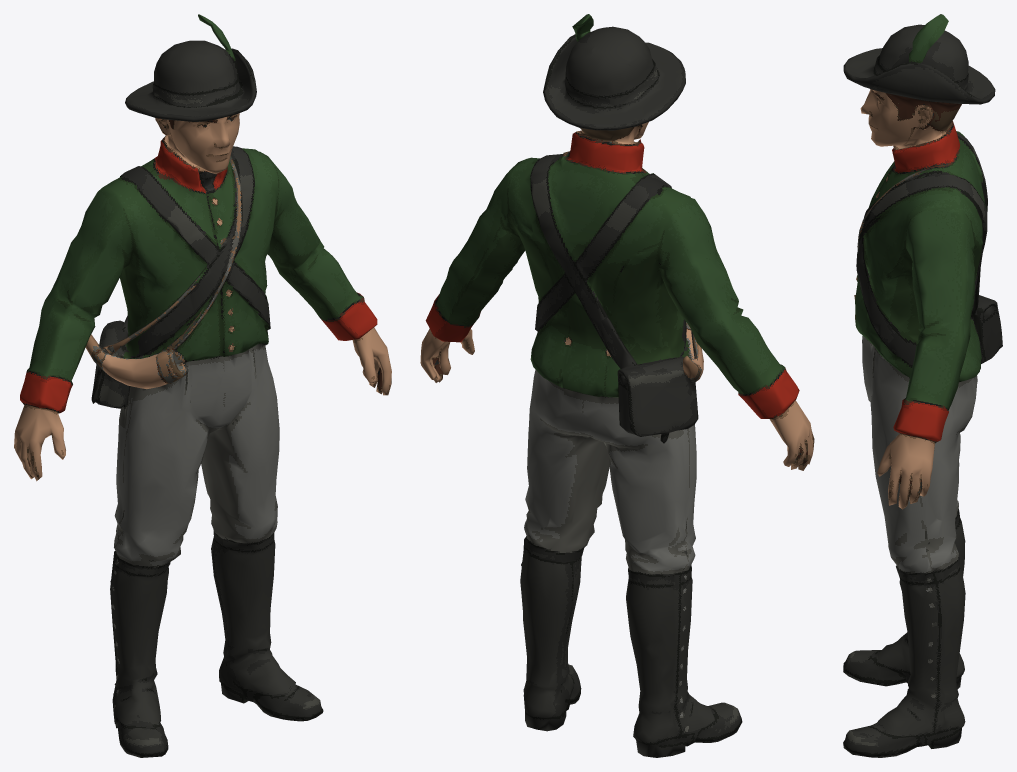
The model's file is tirador.glb.
3 views of the same model, side by side, from view 1: azimuth 30°, elevation 25°; view 2: azimuth 150°, elevation 25°; view 3: azimuth 270°, elevation 25° (orthographic). The views are drawn at different scales.
Visible parts, largest first — view 1: tripo_node_a41fcc69-ff9a-44eb-b478-dd2bba95665b; view 2: tripo_node_a41fcc69-ff9a-44eb-b478-dd2bba95665b; view 3: tripo_node_a41fcc69-ff9a-44eb-b478-dd2bba95665b.
Part boxes in pixels (x1,y1,x2,y2): tripo_node_a41fcc69-ff9a-44eb-b478-dd2bba95665b: [14, 14, 391, 757]; tripo_node_a41fcc69-ff9a-44eb-b478-dd2bba95665b: [420, 14, 814, 757]; tripo_node_a41fcc69-ff9a-44eb-b478-dd2bba95665b: [843, 14, 1002, 757].
Bounding box in the file's own units: 0.5613 × 1 × 0.206.
Materials: 1 (1 with a texture image).
